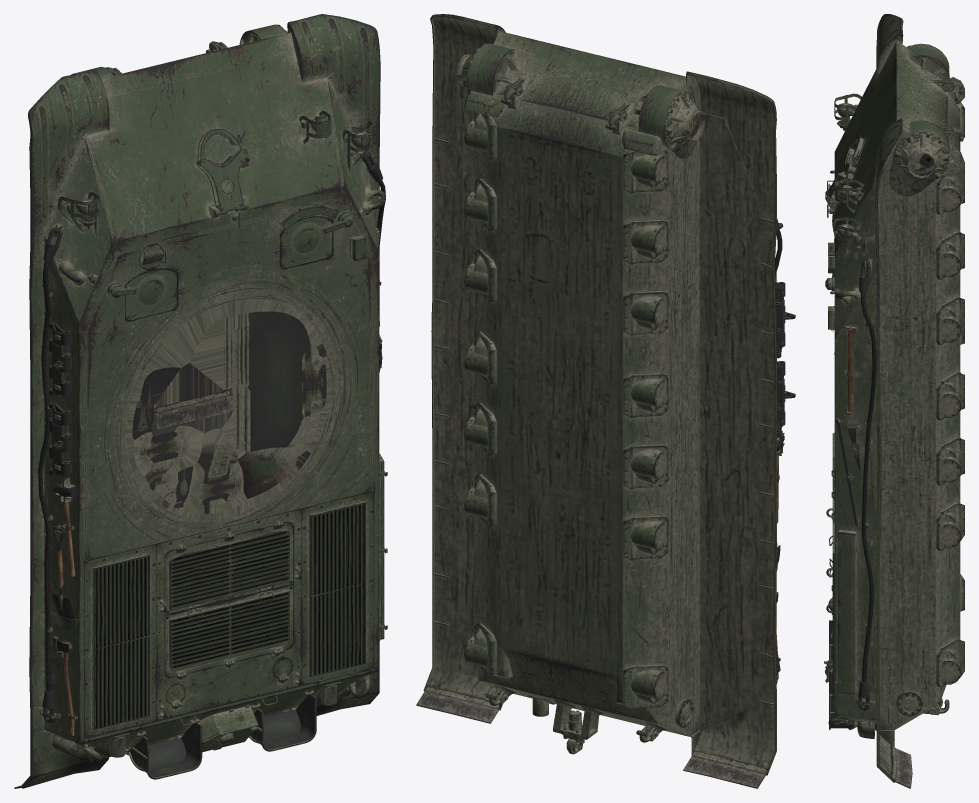
The model's file is Hull.glb.
The picture shows the model from 3 angles, left to right: view 1: azimuth 30°, elevation 25°; view 2: azimuth 150°, elevation 25°; view 3: azimuth 270°, elevation 25°; orthographic projection. The views are drawn at different scales.
Visible parts, largest first — view 1: set_0_group_0; view 2: set_0_group_0; view 3: set_0_group_0.
Part boxes in pixels (<box>): set_0_group_0: <box>14,14,387,788</box>; set_0_group_0: <box>416,14,795,788</box>; set_0_group_0: <box>824,14,964,788</box>.
Size of the model in its own units: 3.58 by 6.94 by 1.39.
Materials: 1 (1 with a texture image).
